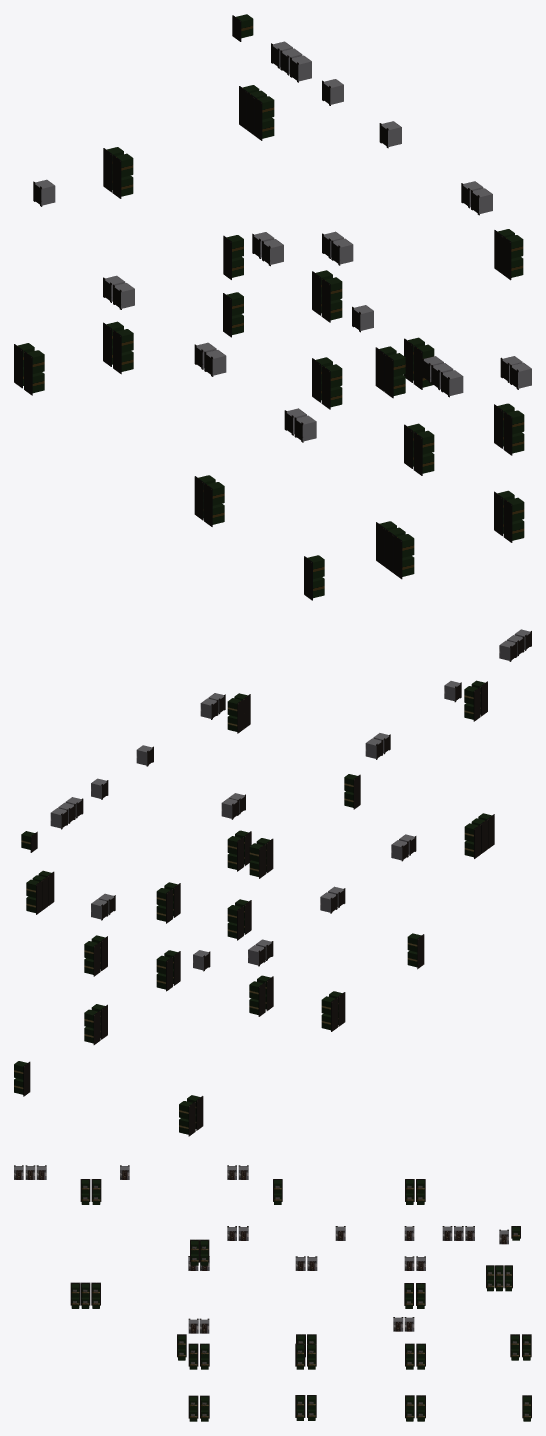
The picture shows the model from 3 angles, top to bottom: view 1: azimuth 30°, elevation 25°; view 2: azimuth 150°, elevation 25°; view 3: azimuth 270°, elevation 25°; orthographic projection. The views are drawn at different scales.
Parts seen in each view (by area): view 1: Box117; view 2: Box117; view 3: Box117.
Part boxes in pixels (left/top/right/bottom): Box117: left=14, top=14, right=531, bottom=600; Box117: left=14, top=629, right=531, bottom=1136; Box117: left=14, top=1165, right=531, bottom=1421.
Size of the model in its own units: 132 by 178 by 434.
1 material, 1 textured.
